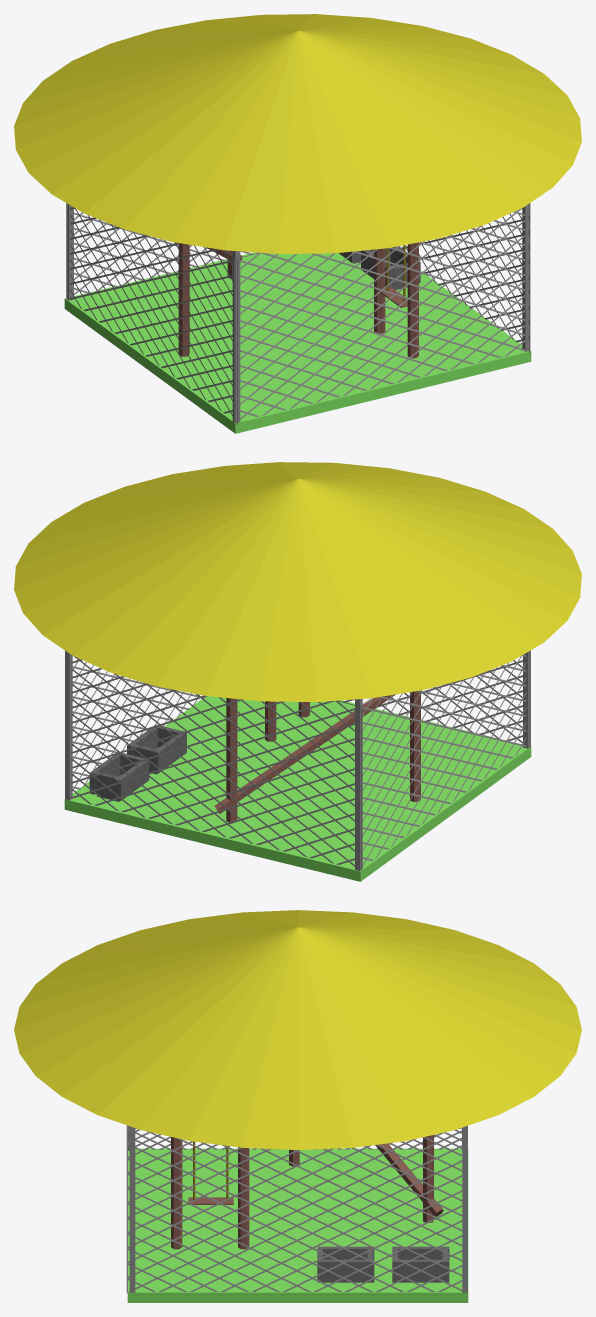
Rendered from Enclosure.fbx.
3 renders of one model, top to bottom at view 1: azimuth 30°, elevation 25°; view 2: azimuth 150°, elevation 25°; view 3: azimuth 270°, elevation 25°, orthographic.
Parts seen in each view (by area): view 1: Cone, Cube, Plane.001, Plane.003, Plane.002, Plane, Cube.004, Cylinder.005, Cylinder, Cube.003, Cube.006, Cylinder.001 (+1 smaller); view 2: Cone, Cube, Plane, Plane.003, Cylinder.005, Plane.002, Plane.001, Cube.010, Cube.006, Cube.002, Cube.001, Cube.004; view 3: Cone, Cube, Plane.002, Cube.006, Cube.010, Cylinder.005, Cube.003, Cylinder, Cylinder.001, Cube.001, Plane.003.
Part boxes in pixels (<box>): Cone: <box>14,14,581,253</box>; Cube: <box>64,252,531,433</box>; Plane.001: <box>234,207,524,423</box>; Plane.003: <box>70,207,237,424</box>; Plane.002: <box>401,203,530,352</box>; Plane: <box>66,203,257,300</box>; Cube.004: <box>232,251,240,423</box>; Cylinder.005: <box>178,243,242,356</box>; Cylinder: <box>407,242,418,358</box>; Cube.003: <box>522,204,529,351</box>; Cube.006: <box>361,246,420,289</box>; Cylinder.001: <box>374,248,385,333</box>; Cone: <box>14,462,581,701</box>; Cube: <box>64,696,531,881</box>; Plane: <box>71,656,361,870</box>; Plane.003: <box>362,654,526,865</box>; Cylinder.005: <box>214,691,420,822</box>; Plane.002: <box>72,658,207,789</box>; Plane.001: <box>339,651,529,747</box>; Cube.010: <box>89,753,149,801</box>; Cube.006: <box>127,724,186,774</box>; Cube.002: <box>355,699,362,870</box>; Cube.001: <box>65,650,72,800</box>; Cube.004: <box>523,650,530,748</box>; Cone: <box>14,910,581,1149</box>; Cube: <box>127,1148,468,1302</box>; Plane.002: <box>126,1128,462,1293</box>; Cube.006: <box>317,1246,374,1282</box>; Cube.010: <box>392,1246,449,1282</box>; Cylinder.005: <box>289,1135,443,1222</box>; Cube.003: <box>129,1126,135,1292</box>; Cylinder: <box>171,1137,182,1249</box>; Cylinder.001: <box>238,1147,249,1249</box>; Cube.001: <box>462,1126,467,1292</box>; Plane.003: <box>126,1125,461,1149</box>.
Bounding box in the file's own units: 5000 × 2950 × 5000.
